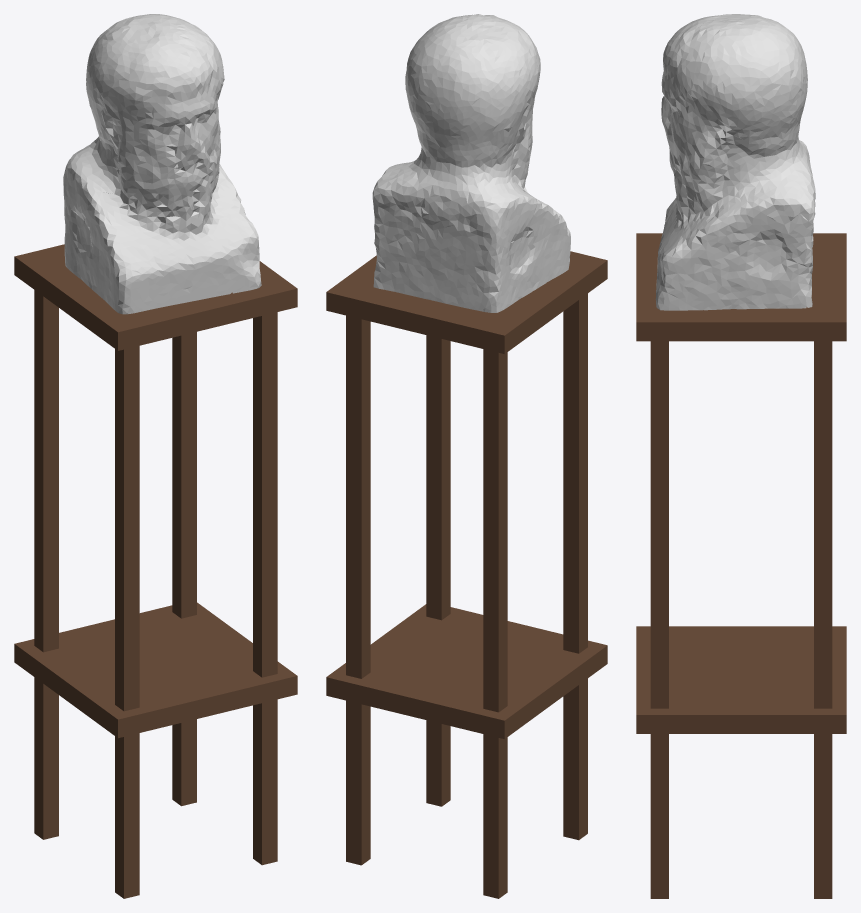
The model's file is Sculpture_3.fbx.
The picture shows the model from 3 angles, left to right: view 1: azimuth 30°, elevation 25°; view 2: azimuth 150°, elevation 25°; view 3: azimuth 270°, elevation 25°; orthographic projection. The views are drawn at different scales.
Parts seen in each view (by area): view 1: Plato.001; view 2: Plato.001; view 3: Plato.001.
Boxes of the visible parts, box(x1,y1,x2,y2) form: Plato.001: box(14, 14, 297, 898); Plato.001: box(326, 14, 607, 898); Plato.001: box(636, 14, 846, 898).
Size of the model in its own units: 32.96 by 145 by 32.96.
